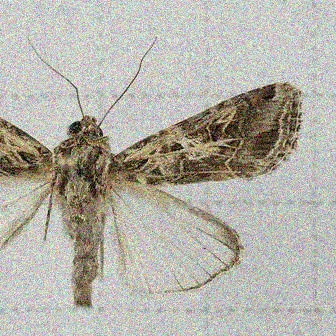Spodoptera litura: (1, 36, 306, 309)
